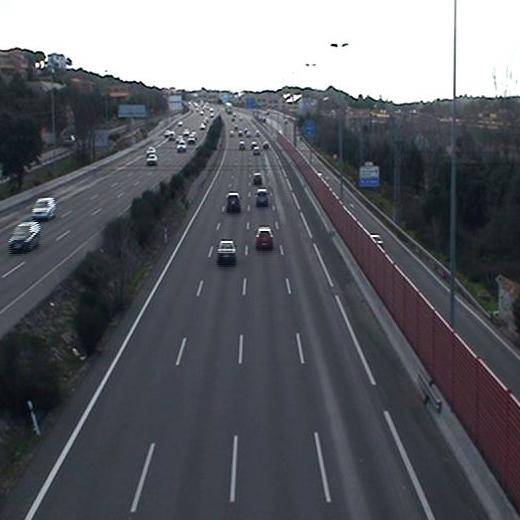car: (214, 235, 241, 269), (252, 224, 278, 253), (252, 185, 273, 211), (224, 190, 244, 216), (250, 171, 265, 188)
